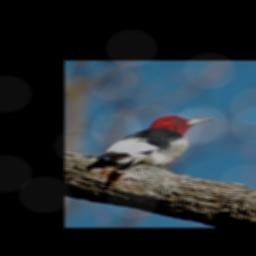Woodpecker: (95, 115, 217, 174)
